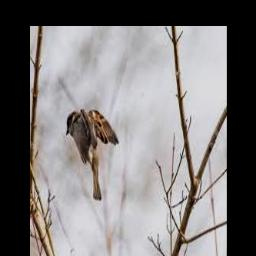Sparrow: (66, 109, 119, 200)
